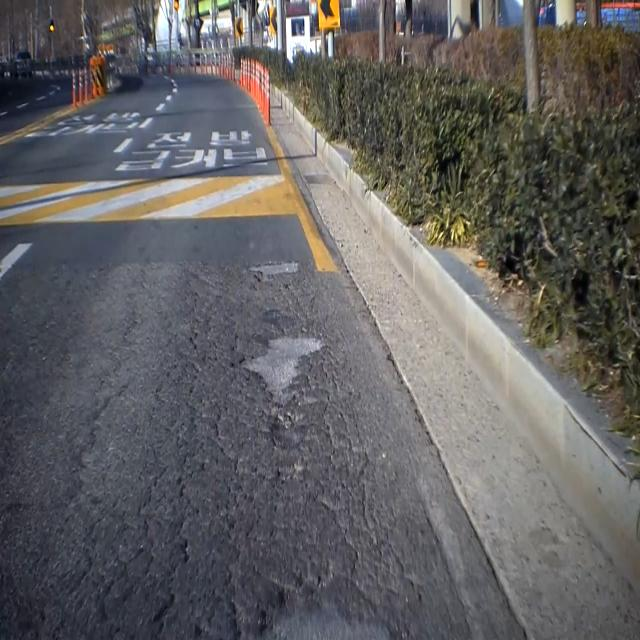Pothole: (230, 327, 328, 451), (265, 571, 395, 640), (246, 258, 304, 290)
